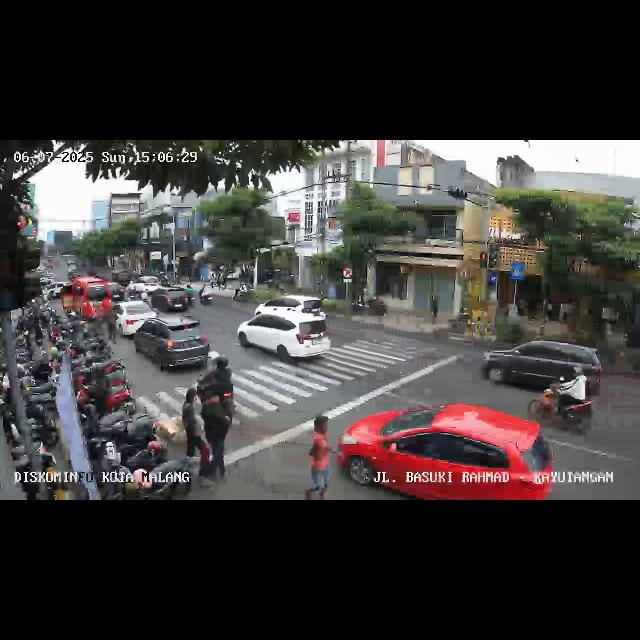car: (336, 402, 554, 500), (486, 337, 602, 395), (238, 306, 329, 366), (134, 317, 212, 373), (254, 290, 326, 326), (59, 278, 111, 324), (108, 299, 156, 337), (148, 286, 192, 314)
motorcycle: (536, 364, 598, 438), (198, 349, 236, 426), (198, 282, 215, 306)
person: (200, 392, 232, 484), (304, 412, 336, 500), (180, 384, 210, 471)
